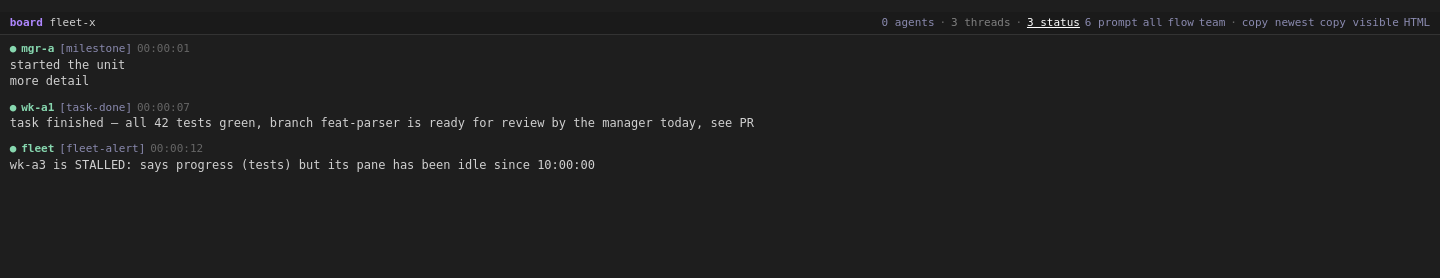
Scenario: board team view (design 054 §8b) › draws the dependency tree under the table, bottleneck first
Click the button "team": (1212, 23) [1199,15,1225,31]
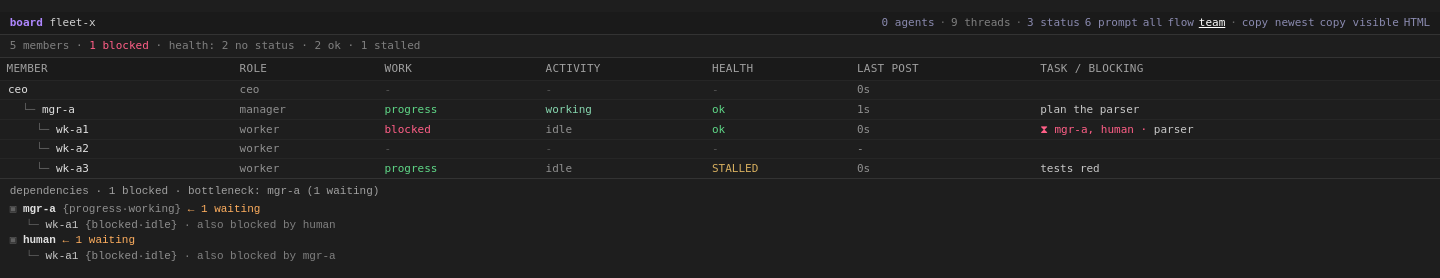
Check: the element with test id "board-team-deps" shows "dependencies · 1 blocked · bottleneck: mgr-a (1 waiting)", box [10,185,380,197]
